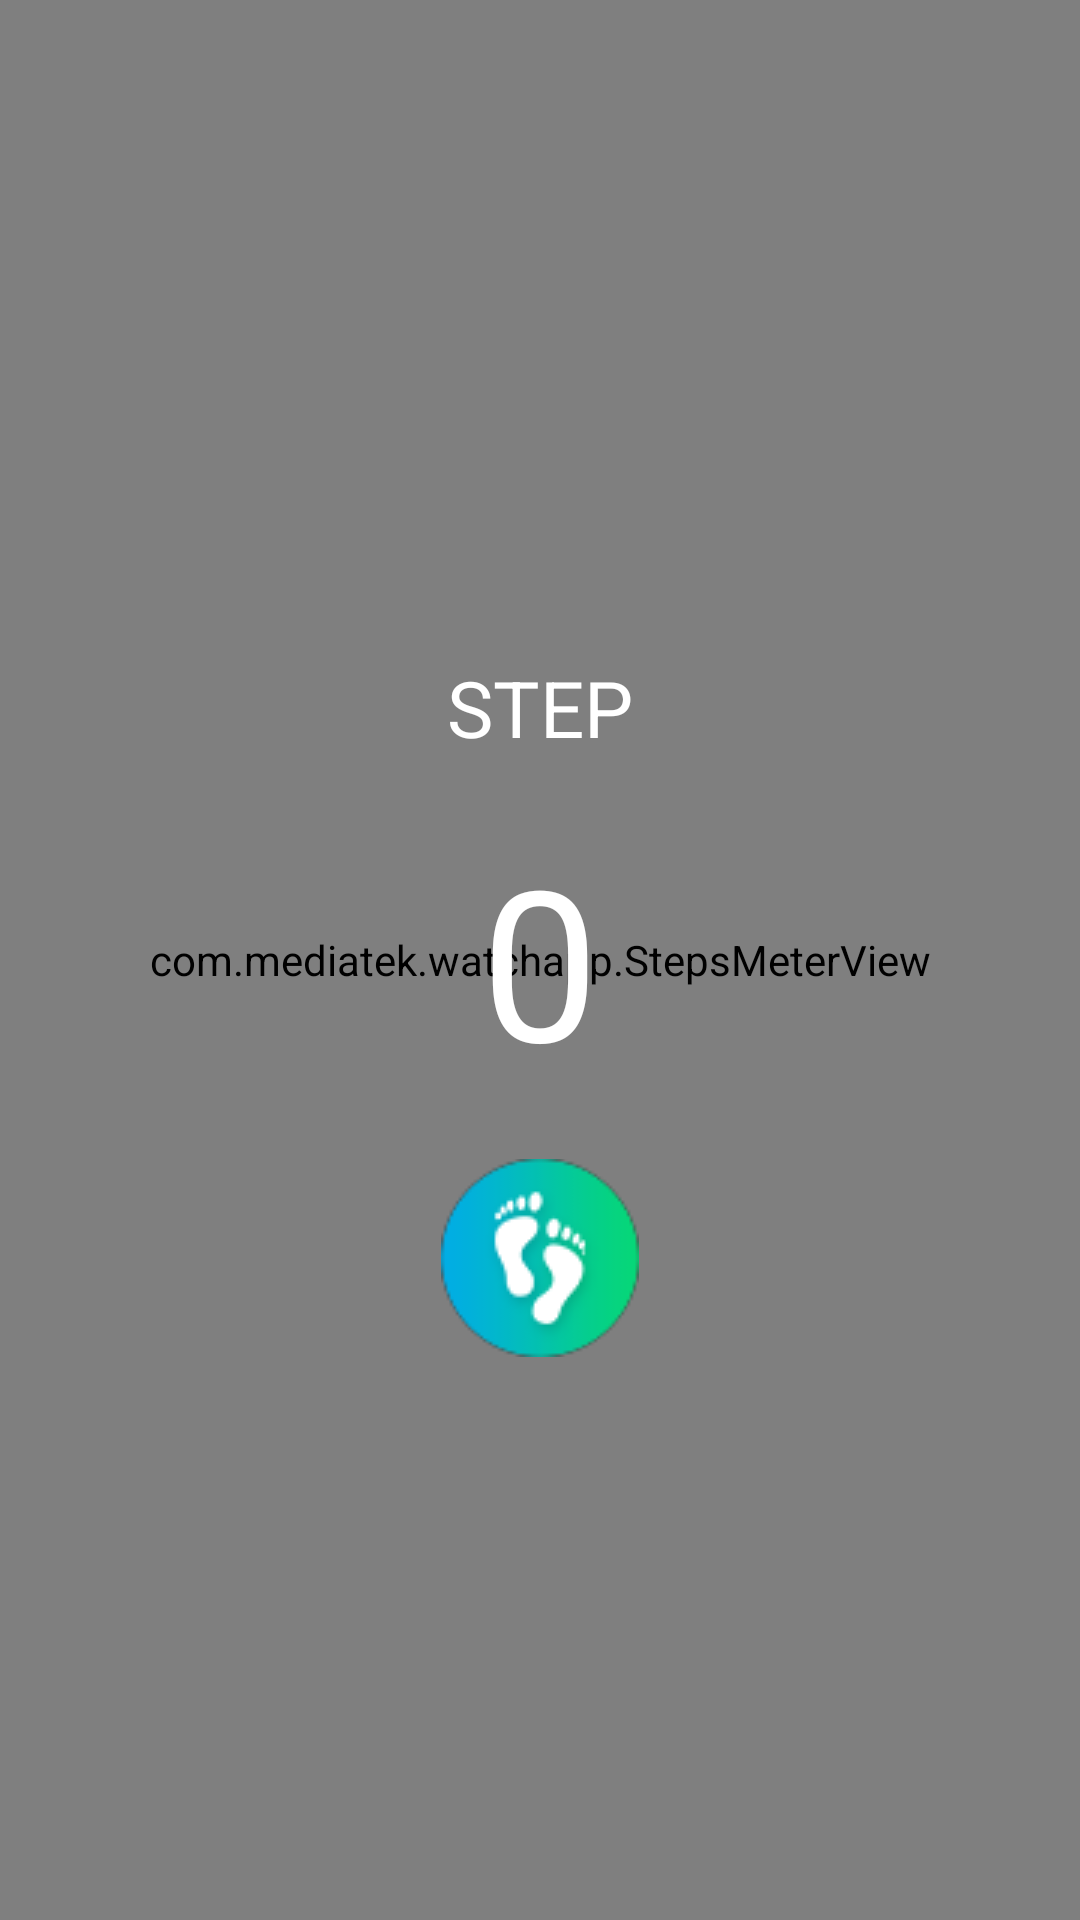

Screen size 1080w x 1920h. Icon name, then its box in pixels as (x1, y1, x2, y2):
sport step: (441, 1159, 639, 1357)
